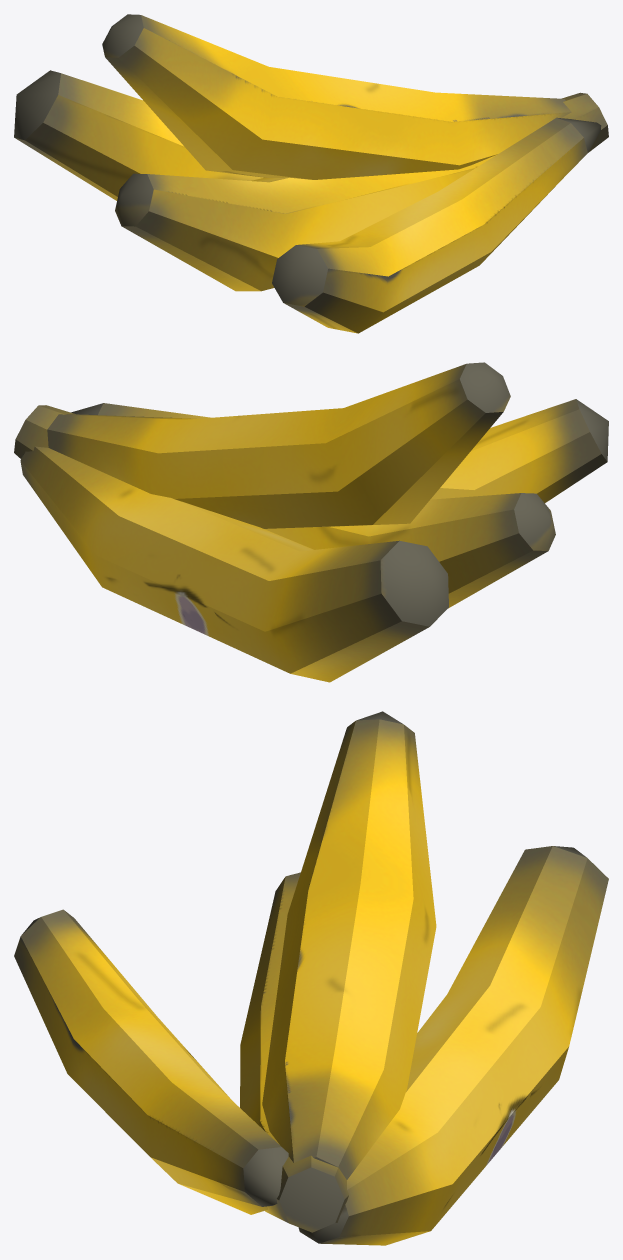
The model's file is Bananas.fbx.
3 views of the same model, one above another, from view 1: azimuth 30°, elevation 25°; view 2: azimuth 150°, elevation 25°; view 3: azimuth 270°, elevation 25° (orthographic). The views are drawn at different scales.
Parts seen in each view (by area): view 1: pCylinder2; view 2: pCylinder2; view 3: pCylinder2.
Boxes of the visible parts, bbox=[...] form: pCylinder2: bbox=[14, 14, 608, 333]; pCylinder2: bbox=[14, 362, 608, 682]; pCylinder2: bbox=[14, 711, 608, 1245].
Size of the model in its own units: 12.17 by 6.76 by 10.57.
Materials: 1 (1 with a texture image).
